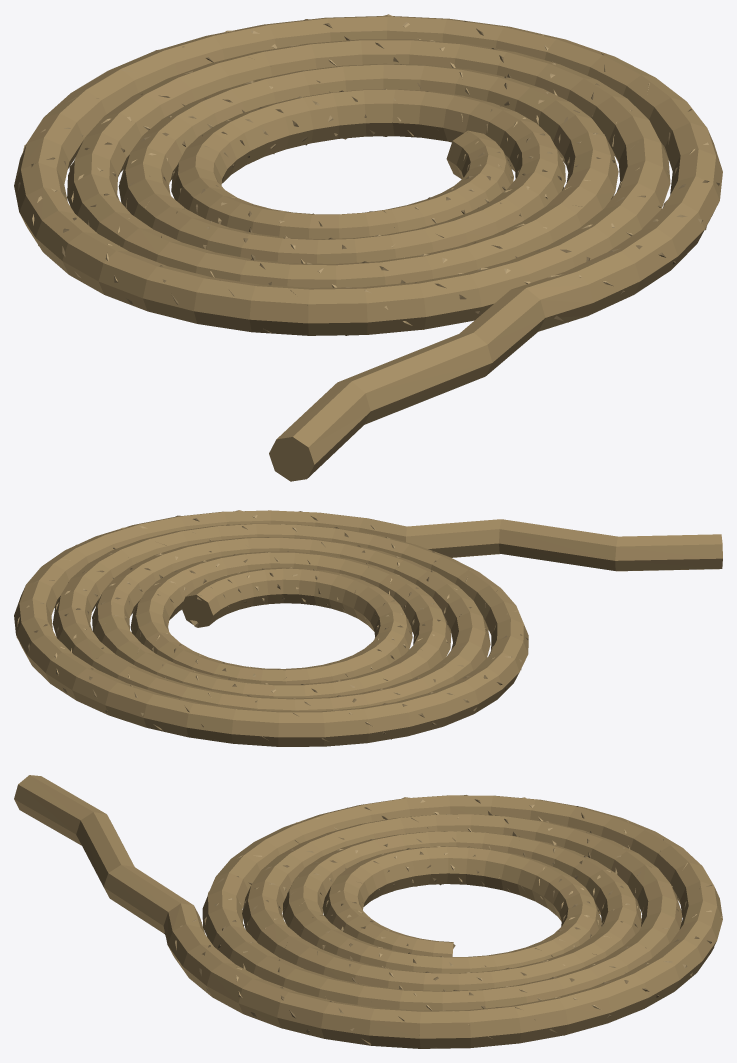
Rendered from LaidLine.glb.
The picture shows the model from 3 angles, top to bottom: view 1: azimuth 30°, elevation 25°; view 2: azimuth 150°, elevation 25°; view 3: azimuth 270°, elevation 25°; orthographic projection. The views are drawn at different scales.
Parts seen in each view (by area): view 1: LaidLine; view 2: LaidLine; view 3: LaidLine.
Part boxes in pixels (x1,y1,x2,y2): LaidLine: (14,14,722,481); LaidLine: (14,510,722,746); LaidLine: (14,775,722,1048).
Bounding box in the file's own units: 0.6625 × 0.056 × 0.7731.
